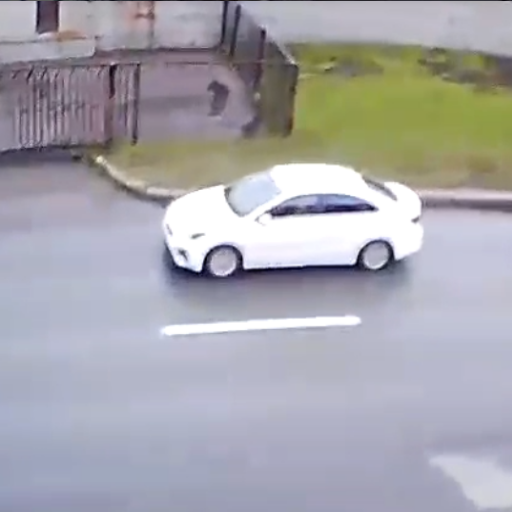Car: (160, 160, 421, 279)
